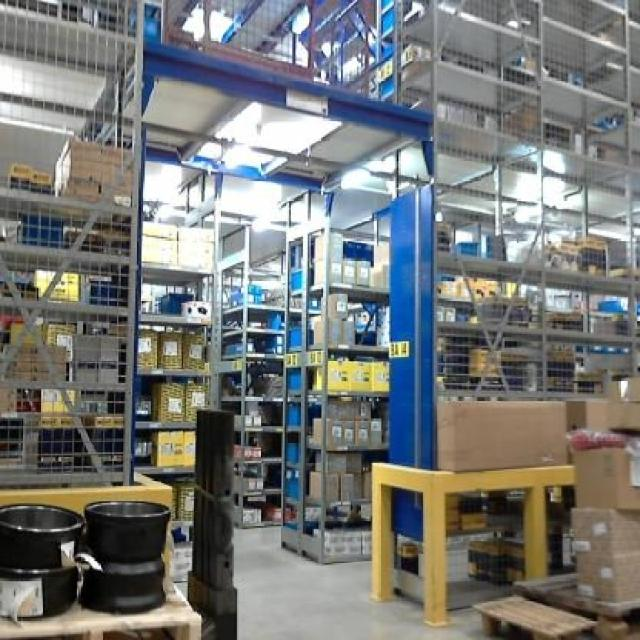pallets: (435, 398, 563, 468)
